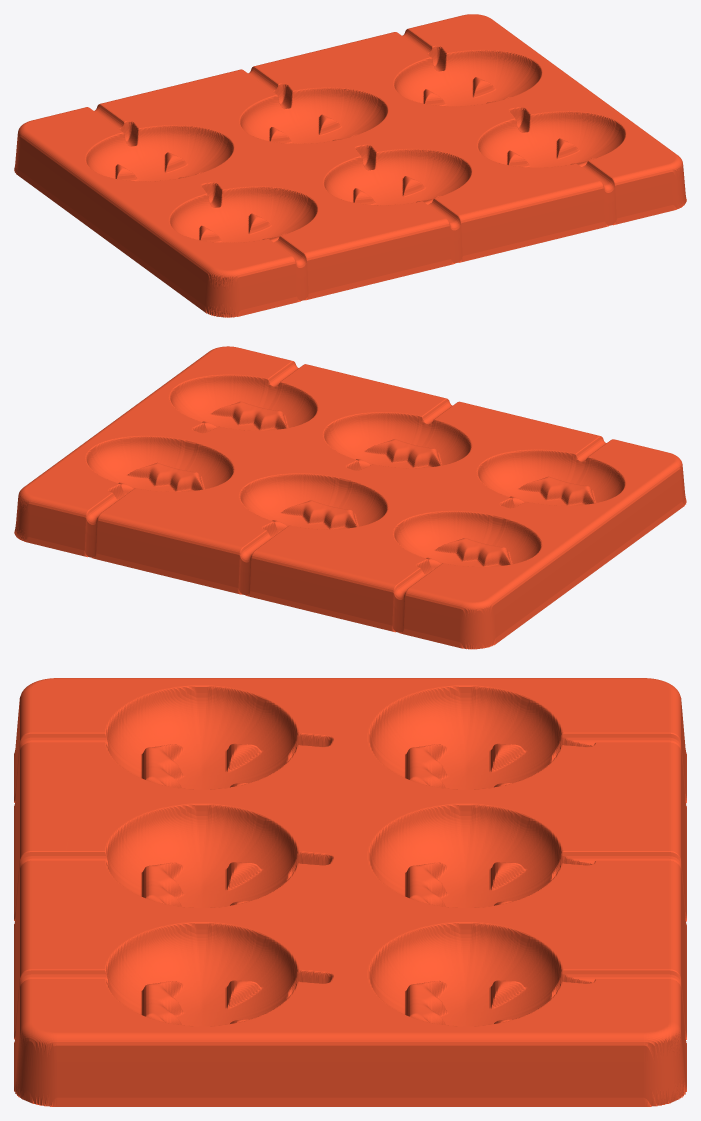
File: mold.glb
The picture shows the model from 3 angles, top to bottom: view 1: azimuth 30°, elevation 25°; view 2: azimuth 150°, elevation 25°; view 3: azimuth 270°, elevation 25°; orthographic projection. The views are drawn at different scales.
Parts seen in each view (by area): view 1: geometry_0; view 2: geometry_0; view 3: geometry_0.
Boxes of the visible parts, <box> form: geometry_0: <box>14,14,686,317</box>; geometry_0: <box>14,346,686,649</box>; geometry_0: <box>14,678,686,1106</box>.
Size of the model in its own units: 0.1824 by 0.0155 by 0.141.
